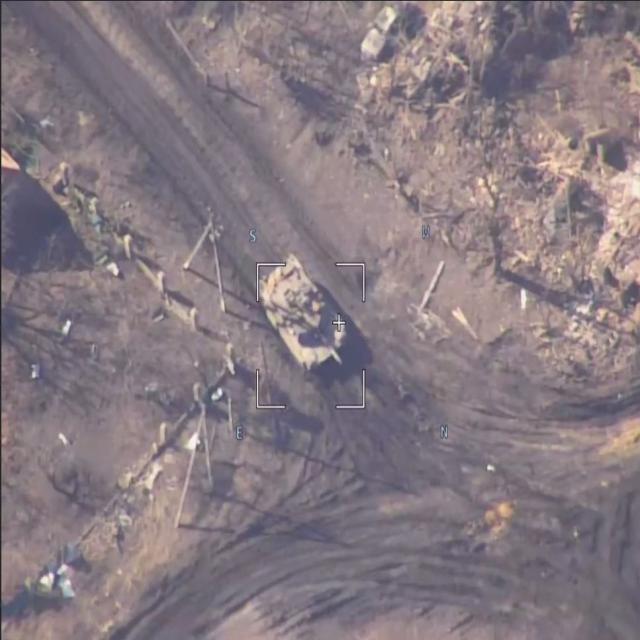vehicle: (248, 237, 364, 387)
